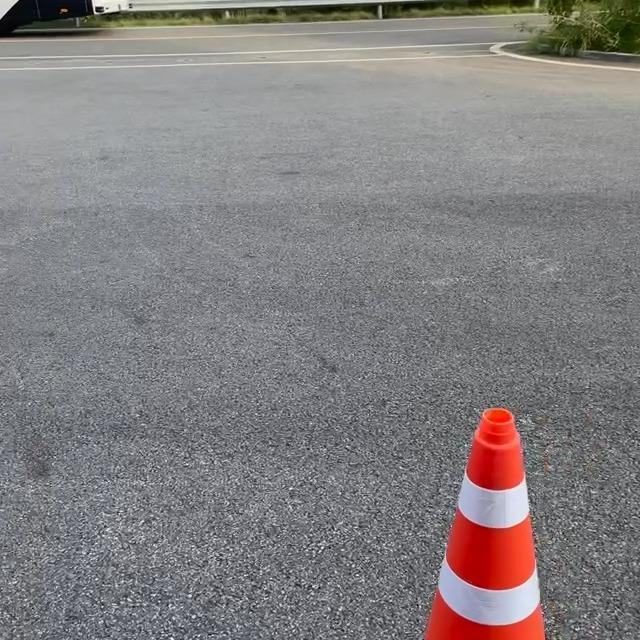fallen_object: (357, 296, 572, 640)
